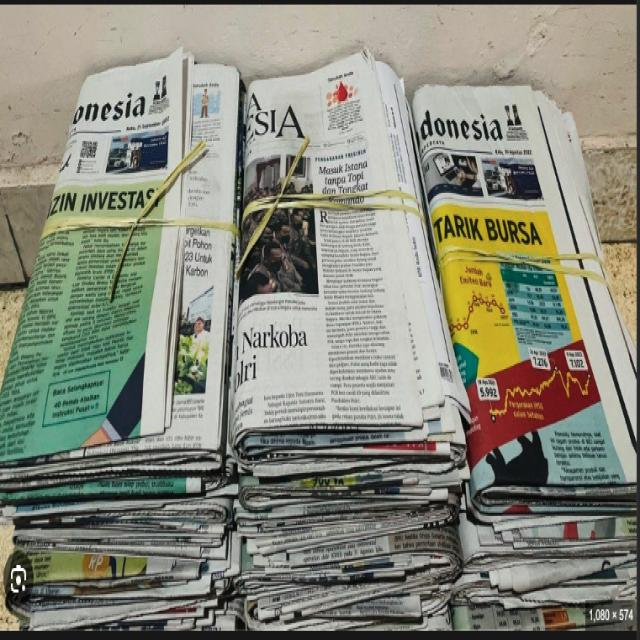Koran: (1, 45, 636, 632), (7, 51, 236, 624), (243, 51, 464, 628), (409, 70, 635, 621)
